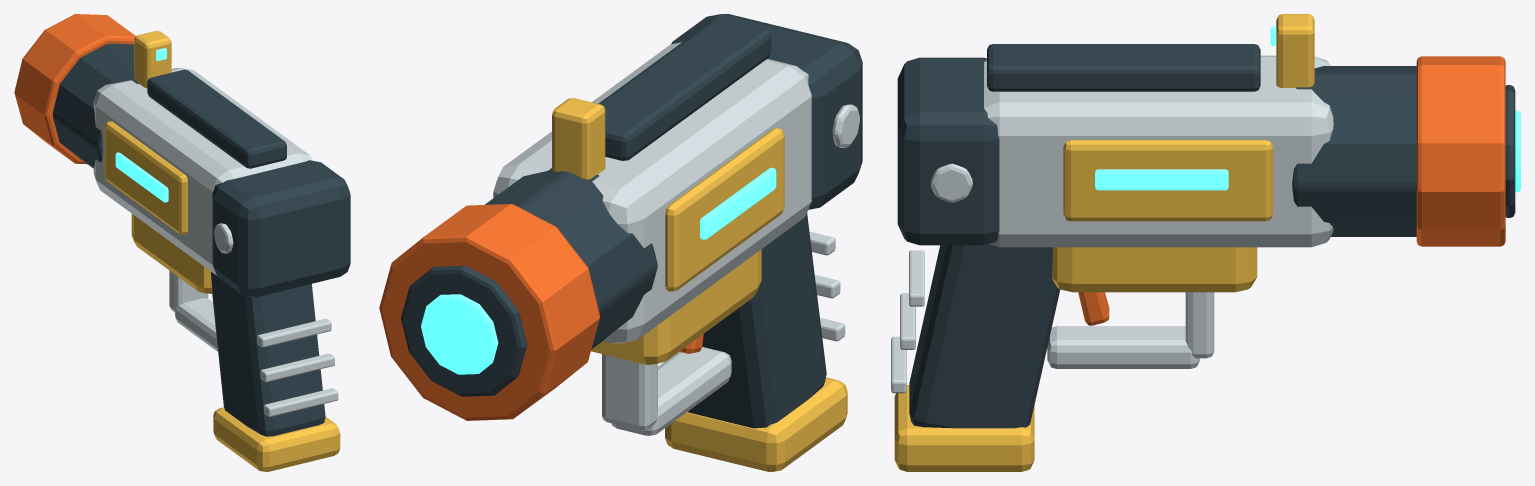
File: training_blaster.glb
The picture shows the model from 3 angles, left to right: view 1: azimuth 30°, elevation 25°; view 2: azimuth 150°, elevation 25°; view 3: azimuth 270°, elevation 25°; orthographic projection. The views are drawn at different scales.
Visible parts, largest first — view 1: 02 Rear housing, 03 Grip, 01 Receiver, 10 Orange muzzle, 13 Top rail, 09 Barrel shroud, 04 Grip heel, 16 Side panel -1, 05 Power cell, 14 Front sight, 06 Trigger guard bottom, 19 Grip rib 1 (+5 smaller); view 2: 01 Receiver, 10 Orange muzzle, 03 Grip, 13 Top rail, 09 Barrel shroud, 02 Rear housing, 16 Side panel -1, 04 Grip heel, 11 Muzzle inset, 05 Power cell, 12 Energy emitter, 06 Trigger guard bottom (+4 smaller); view 3: 01 Receiver, 03 Grip, 09 Barrel shroud, 10 Orange muzzle, 02 Rear housing, 16 Side panel 1, 13 Top rail, 05 Power cell, 04 Grip heel, 06 Trigger guard bottom, 17 Charge strip 1, 14 Front sight (+7 smaller).
Boxes of the visible parts, x1,y1,x2,y2 form: 02 Rear housing: (212, 160, 350, 296); 03 Grip: (211, 272, 325, 436); 01 Receiver: (93, 68, 312, 275); 10 Orange muzzle: (14, 14, 135, 164); 13 Top rail: (147, 69, 286, 168); 09 Barrel shroud: (52, 43, 139, 168); 04 Grip heel: (213, 407, 340, 471); 16 Side panel -1: (105, 121, 187, 234); 05 Power cell: (131, 214, 212, 293); 14 Front sight: (134, 31, 171, 88); 06 Trigger guard bottom: (175, 298, 217, 351); 19 Grip rib 1: (260, 353, 334, 382); 01 Receiver: (493, 42, 811, 343); 10 Orange muzzle: (379, 204, 600, 420); 03 Grip: (688, 213, 826, 428); 13 Top rail: (598, 19, 771, 160); 09 Barrel shroud: (485, 168, 657, 349); 02 Rear housing: (671, 14, 862, 209); 16 Side panel -1: (665, 128, 784, 291); 04 Grip heel: (665, 377, 847, 471); 11 Muzzle inset: (401, 265, 527, 396); 05 Power cell: (591, 249, 761, 364); 12 Energy emitter: (421, 294, 498, 374); 06 Trigger guard bottom: (611, 347, 731, 435); 01 Receiver: (984, 55, 1333, 247); 03 Grip: (909, 244, 1059, 428); 09 Barrel shroud: (1292, 66, 1416, 236); 10 Orange muzzle: (1416, 56, 1505, 246); 02 Rear housing: (897, 57, 999, 245); 16 Side panel 1: (1063, 140, 1273, 221); 13 Top rail: (987, 44, 1260, 91); 05 Power cell: (1052, 247, 1257, 292); 04 Grip heel: (894, 385, 1034, 471); 06 Trigger guard bottom: (1047, 326, 1199, 368); 17 Charge strip 1: (1095, 169, 1228, 190); 14 Front sight: (1276, 14, 1314, 87).
Size of the model in its own units: 0.308 by 0.745 by 0.9895.
